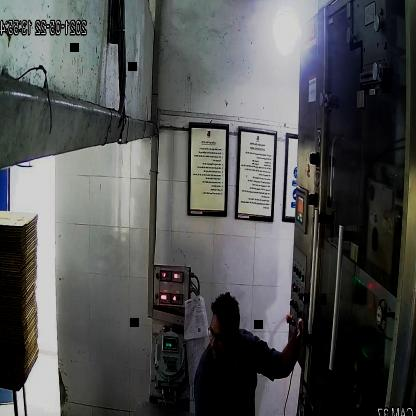goggles: (207, 324, 239, 348)
